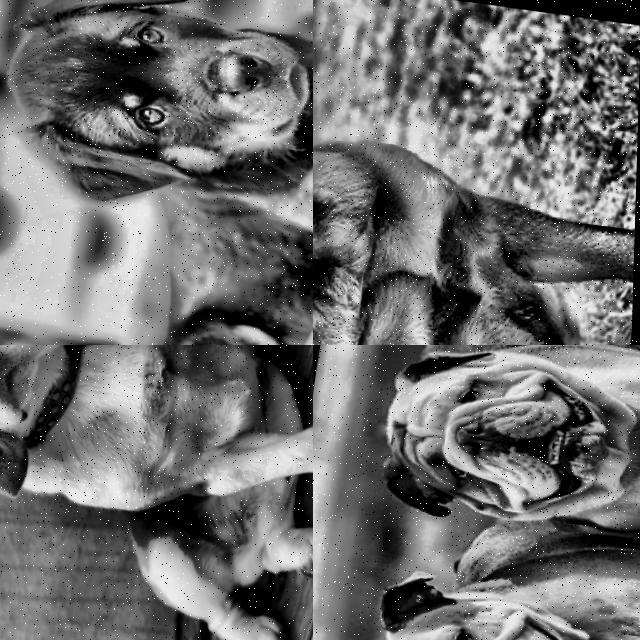beagle: (0, 345, 125, 526)
bulldog: (356, 345, 640, 551), (334, 555, 640, 640)
rottweiler: (0, 0, 313, 251)
